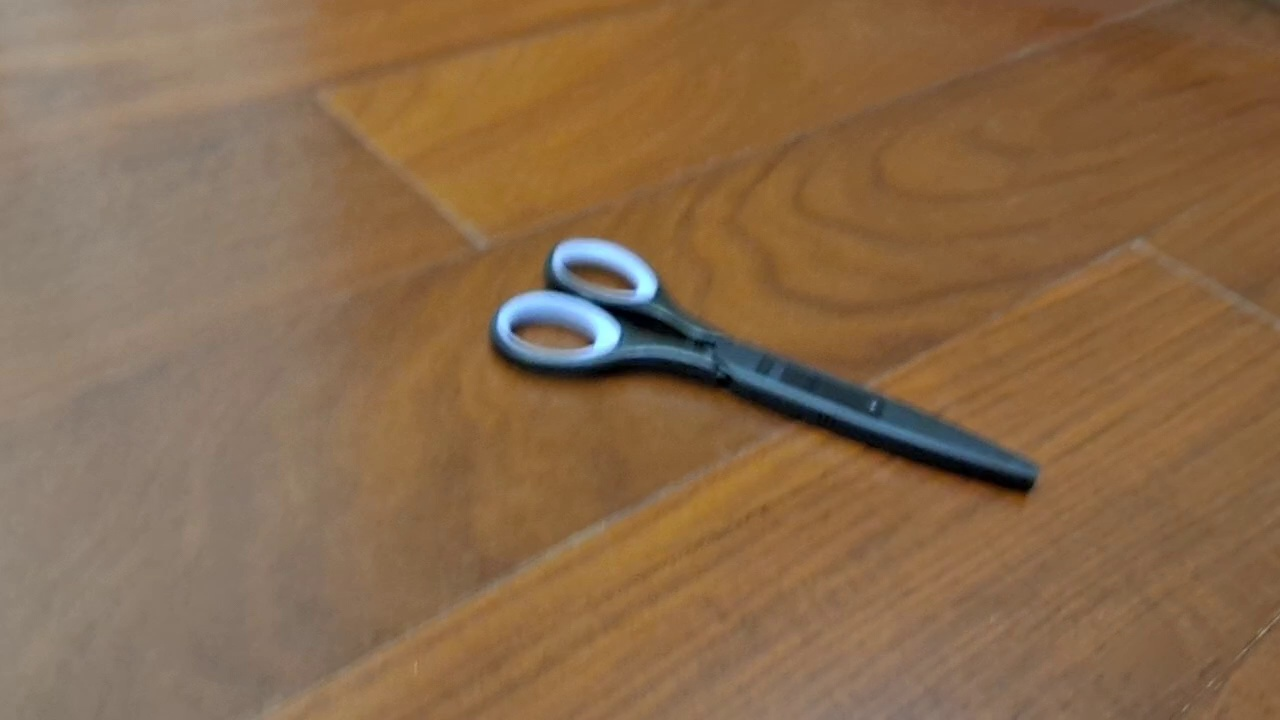scissors: (487, 233, 1041, 497)
